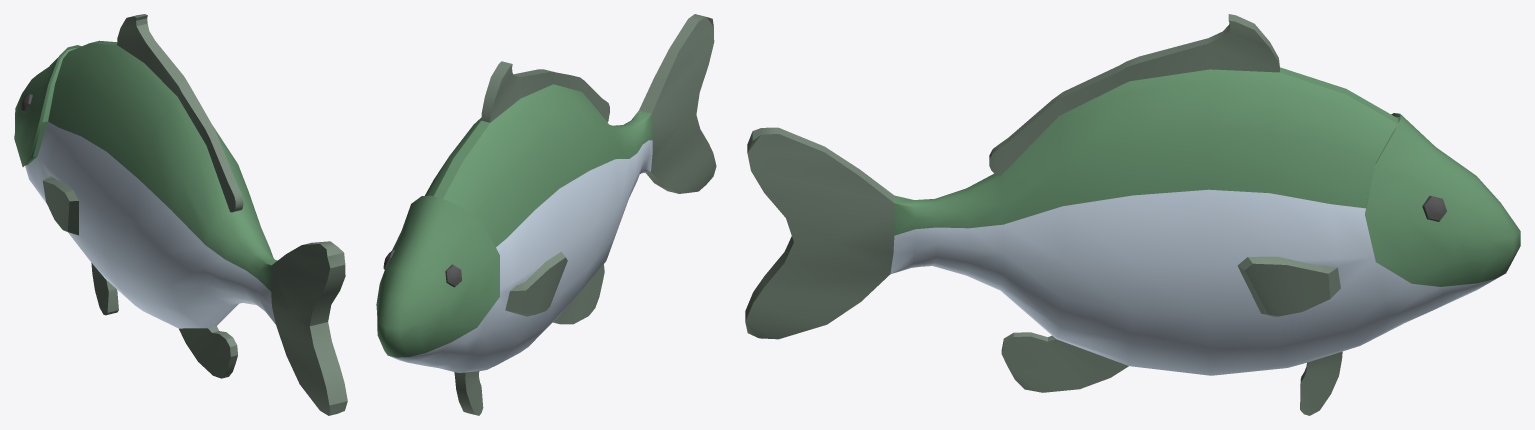
File: bass.glb
The picture shows the model from 3 angles, left to right: view 1: azimuth 30°, elevation 25°; view 2: azimuth 150°, elevation 25°; view 3: azimuth 270°, elevation 25°; orthographic projection. The views are drawn at different scales.
Parts seen in each view (by area): view 1: fish02; view 2: fish02; view 3: fish02.
Part boxes in pixels (x1,y1,x2,y2): fish02: (14,14,347,415); fish02: (376,14,716,415); fish02: (745,14,1520,415).
Size of the model in its own units: 0.5861 by 1.33 by 2.37.
